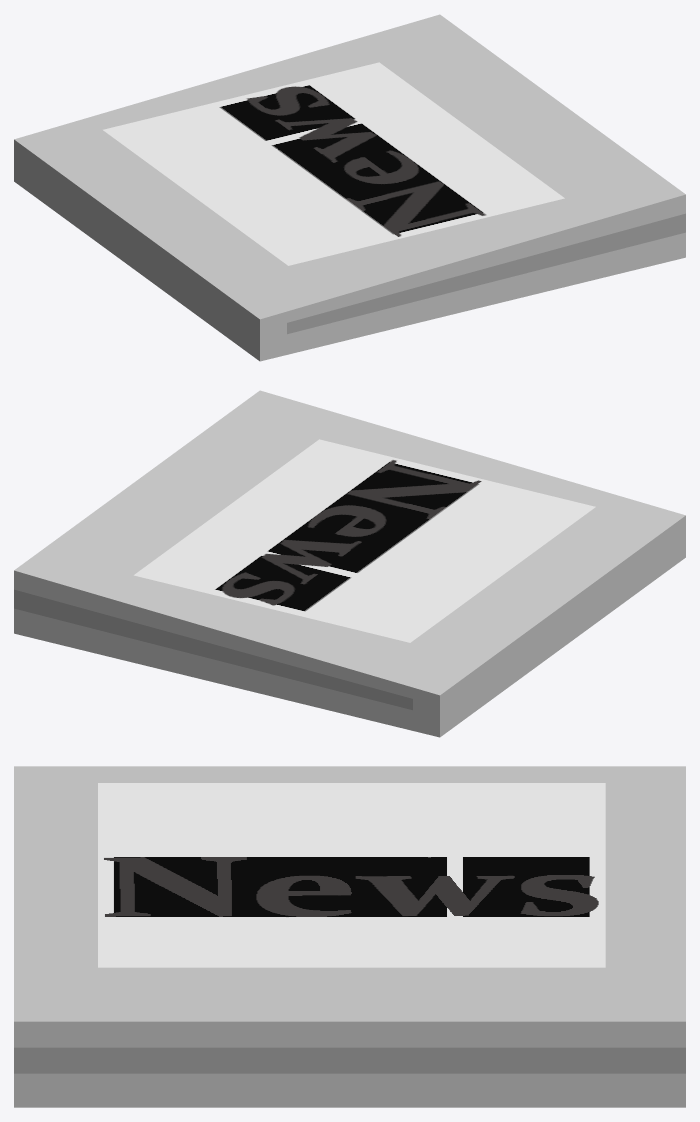
The model's file is M_Newspapers.fbx.
The picture shows the model from 3 angles, top to bottom: view 1: azimuth 30°, elevation 25°; view 2: azimuth 150°, elevation 25°; view 3: azimuth 270°, elevation 25°; orthographic projection. The views are drawn at different scales.
Parts seen in each view (by area): view 1: Newspapers, Plane.002; view 2: Newspapers, Plane.002; view 3: Newspapers, Plane.002.
Boxes of the visible parts, box(x1,y1,x2,y2) form: Newspapers: box(14, 14, 685, 361); Plane.002: box(103, 62, 564, 265); Newspapers: box(14, 390, 685, 737); Plane.002: box(134, 439, 595, 642); Newspapers: box(14, 766, 685, 1107); Plane.002: box(98, 783, 605, 967).
Size of the model in its own units: 275 by 38.91 by 275.
